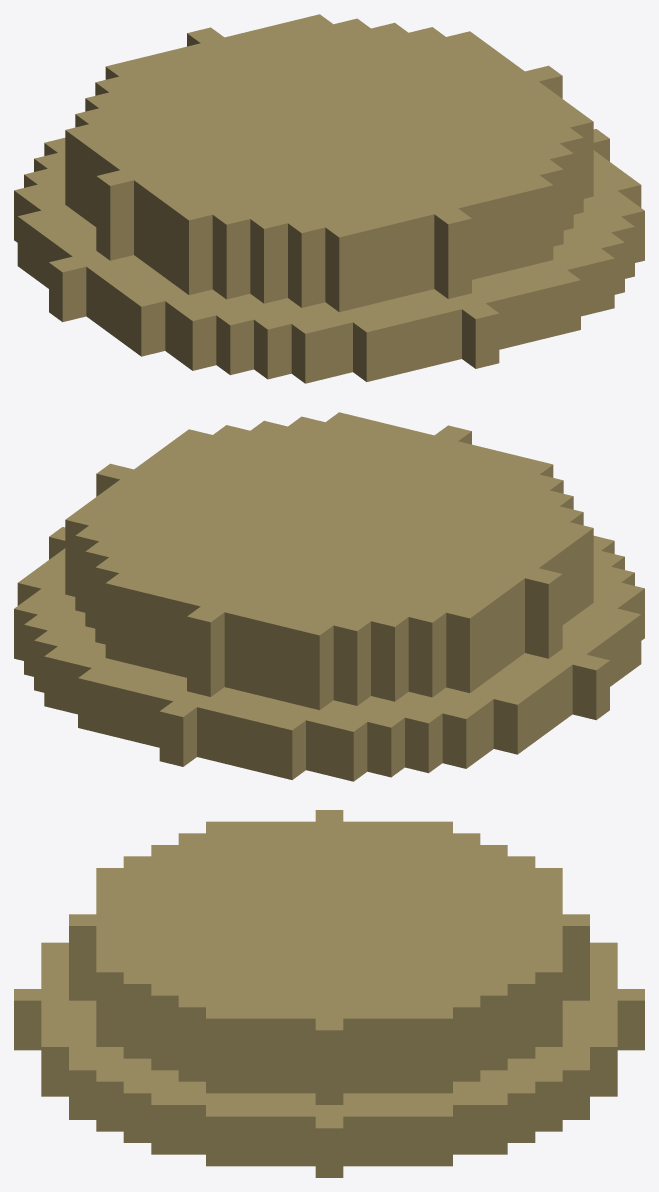
The picture shows the model from 3 angles, top to bottom: view 1: azimuth 30°, elevation 25°; view 2: azimuth 150°, elevation 25°; view 3: azimuth 270°, elevation 25°; orthographic projection.
Bounding box in the file's own units: 23 × 5 × 23.
